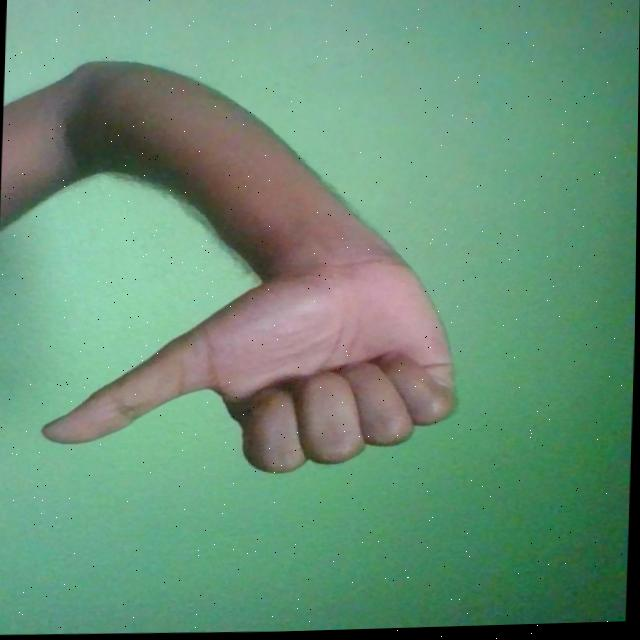Dislike: (39, 251, 465, 482)
